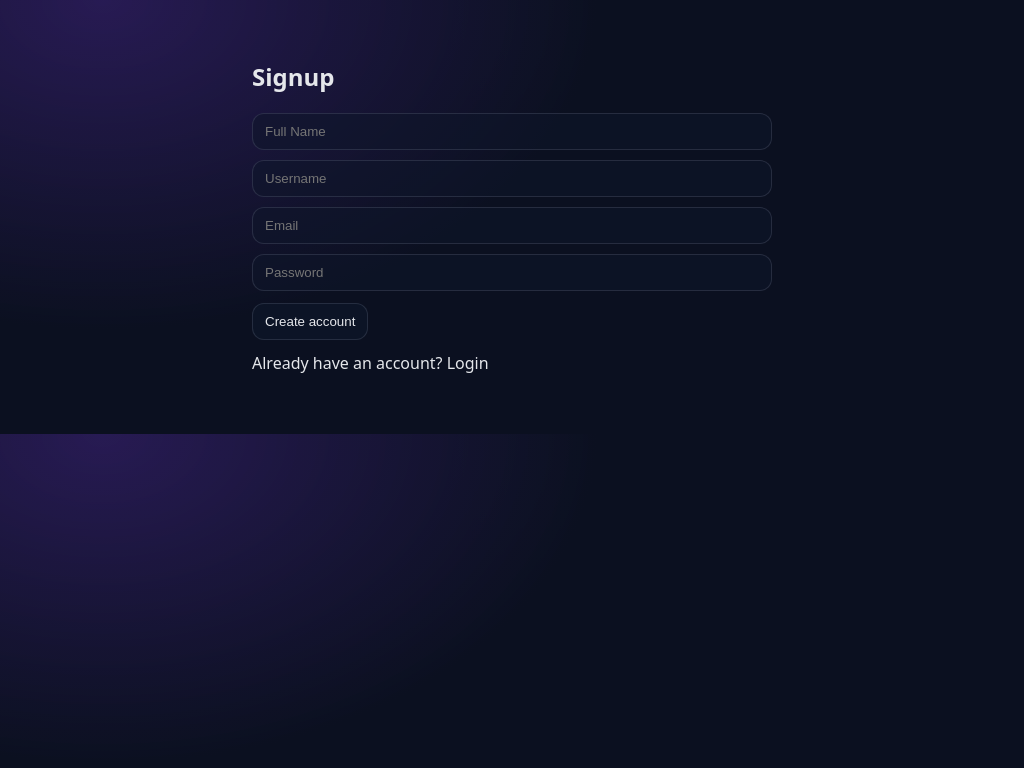
Test case: Signup page › creates new user with valid data
Type "Test User" into the field with placeholder "Full Name" at (512, 131), box [252,113,772,150]
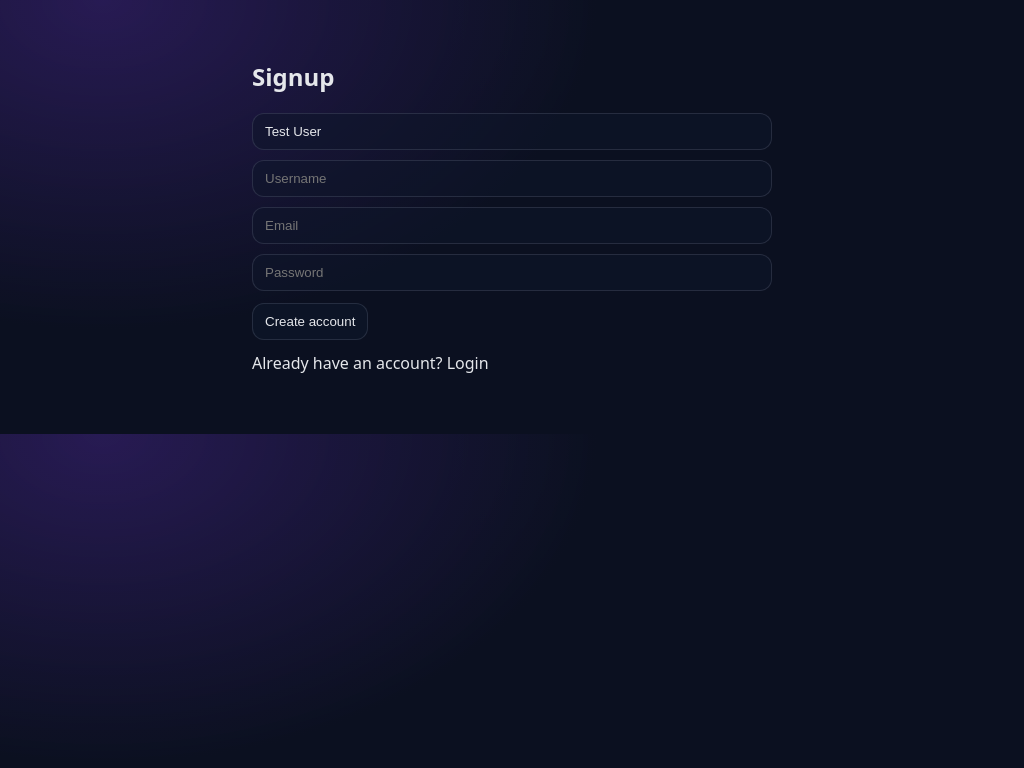
Type "testuser" into the field with placeholder "Username" at (512, 178), box [252,160,772,197]
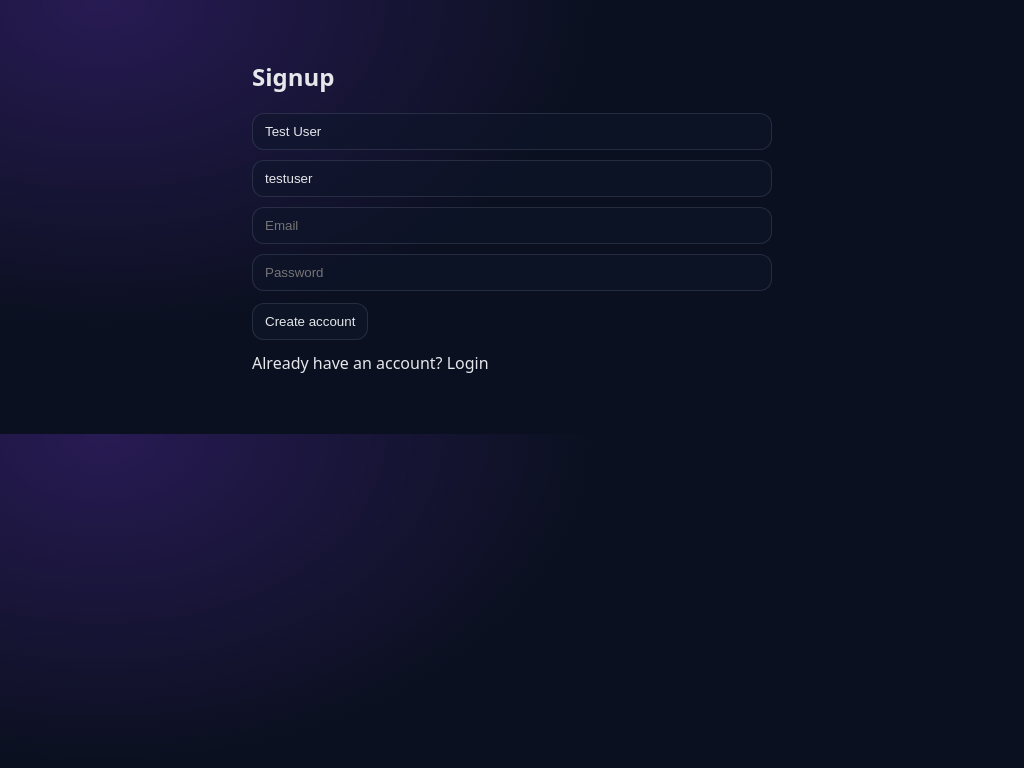
Type "test@example.com" into the field with placeholder "Email" at (512, 225), box [252,207,772,244]
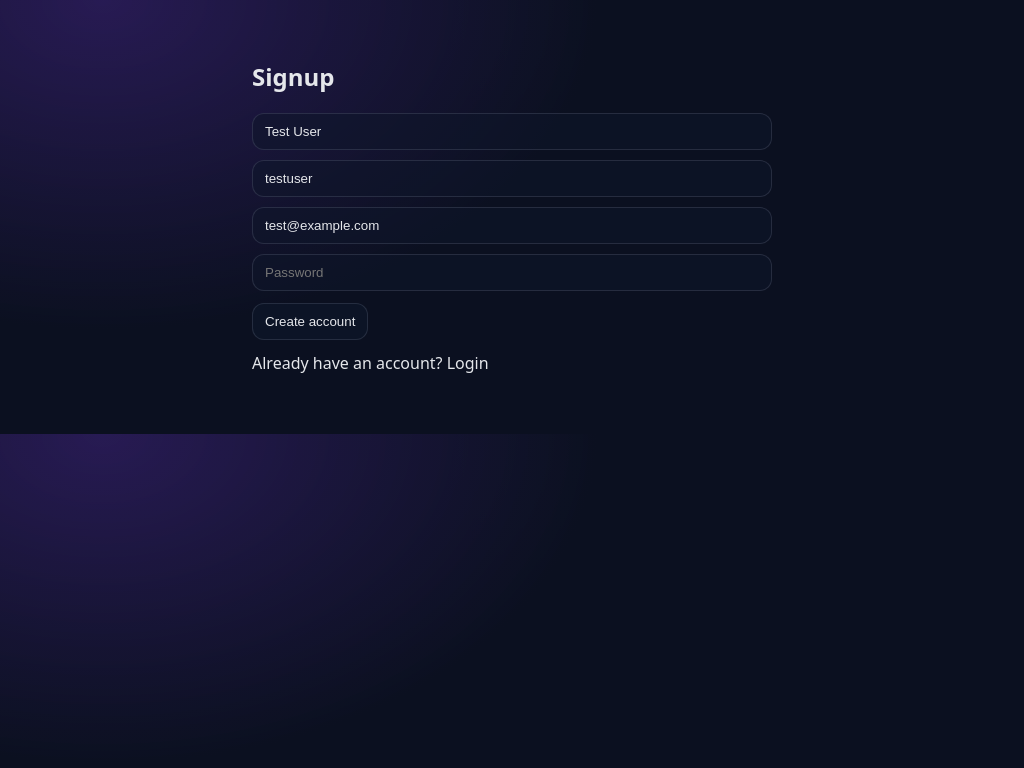
Type "Password123!" into the password field with placeholder "Password" at (512, 272), box [252,254,772,291]
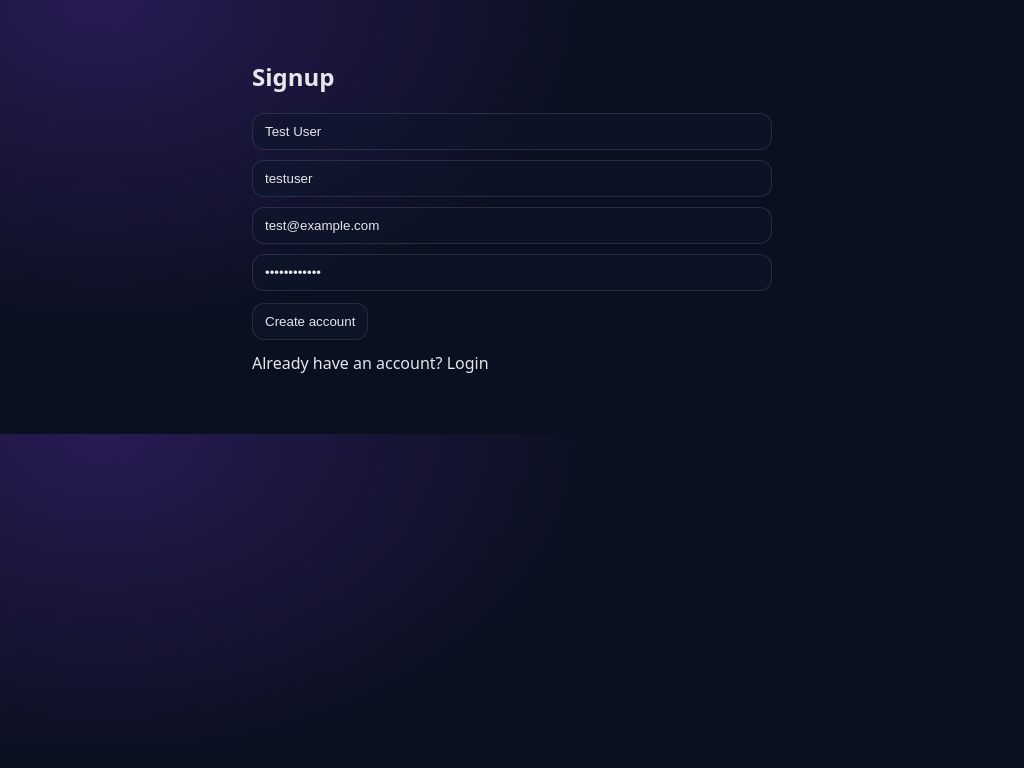
Click the button at (310, 321), box [252,303,368,340]
Wait 700 ms
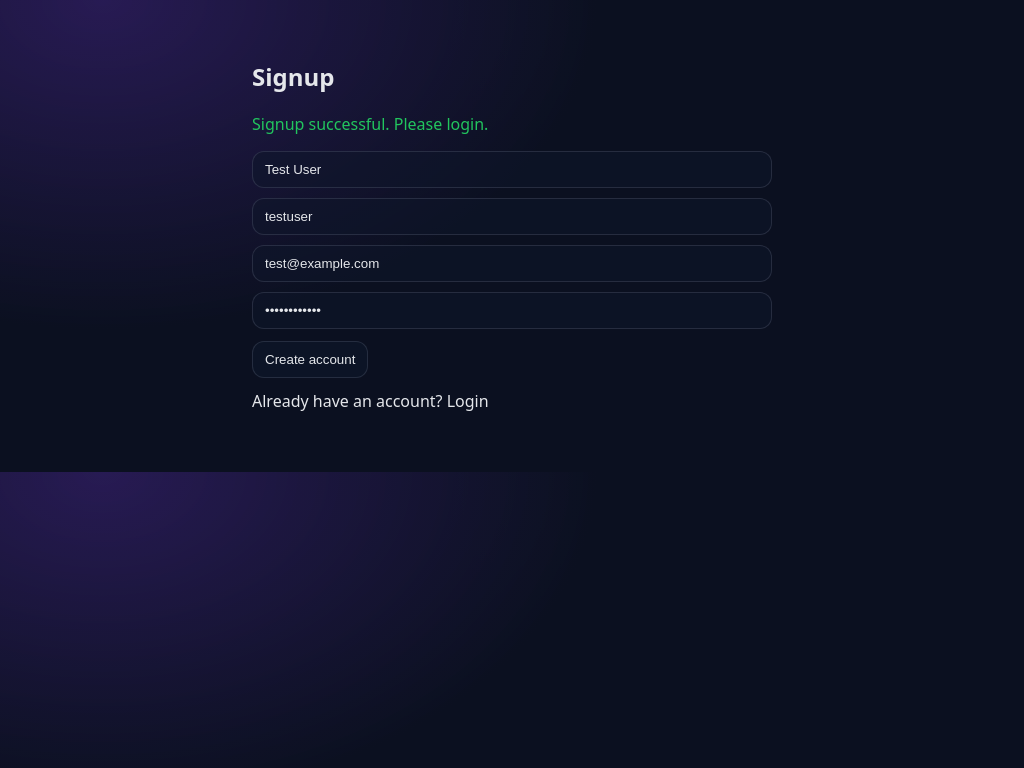
expect the text "Signup successful. Please login." is shown: met, box [252,113,488,135]
